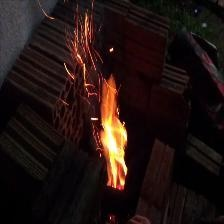fire: (83, 21, 133, 205)
